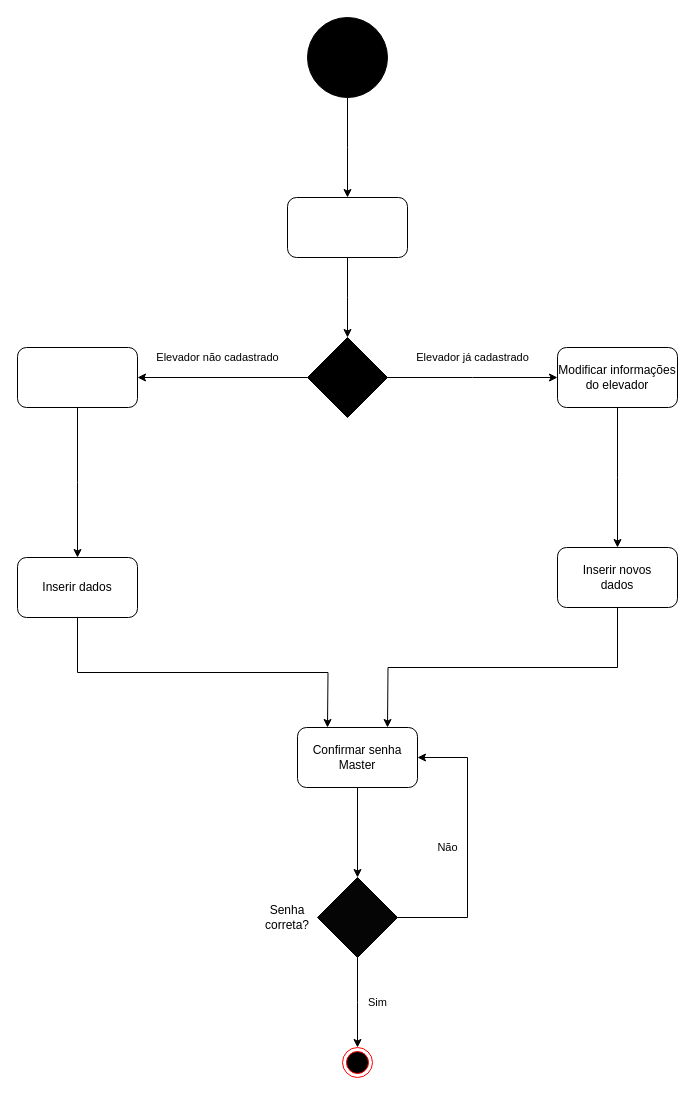
Some shapes in this 695 by 1095 pixel diagram are drawn without their labels. Here are the shapes that lost their labels. From the top down, the box of each, then its label:
(286, 196, 408, 258): Informar código do elevador
(16, 346, 138, 408): Cadastrar novo elevador
